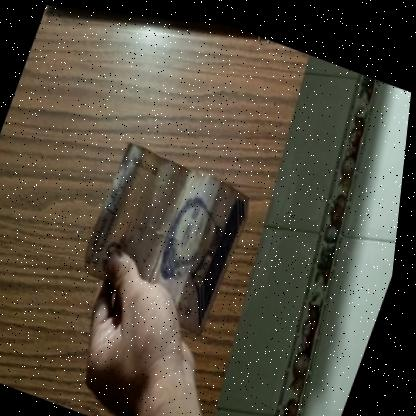ten-front-vef: (73, 133, 264, 336)
